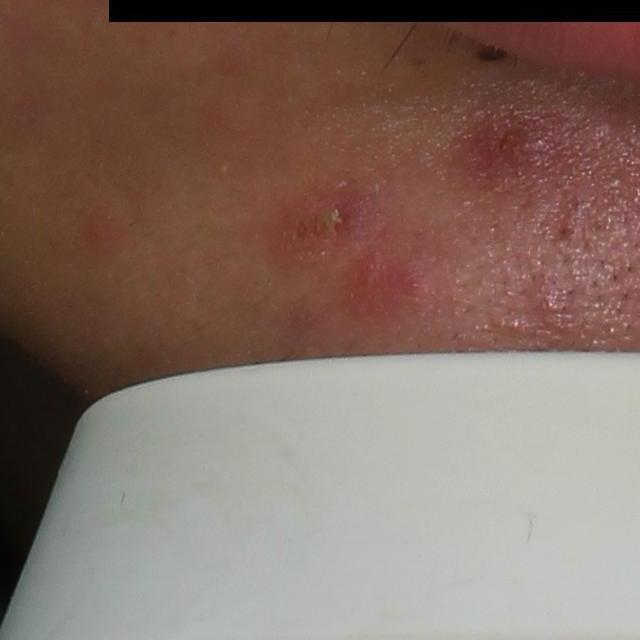nevus: (473, 39, 507, 62)
pustule: (279, 190, 369, 252)
